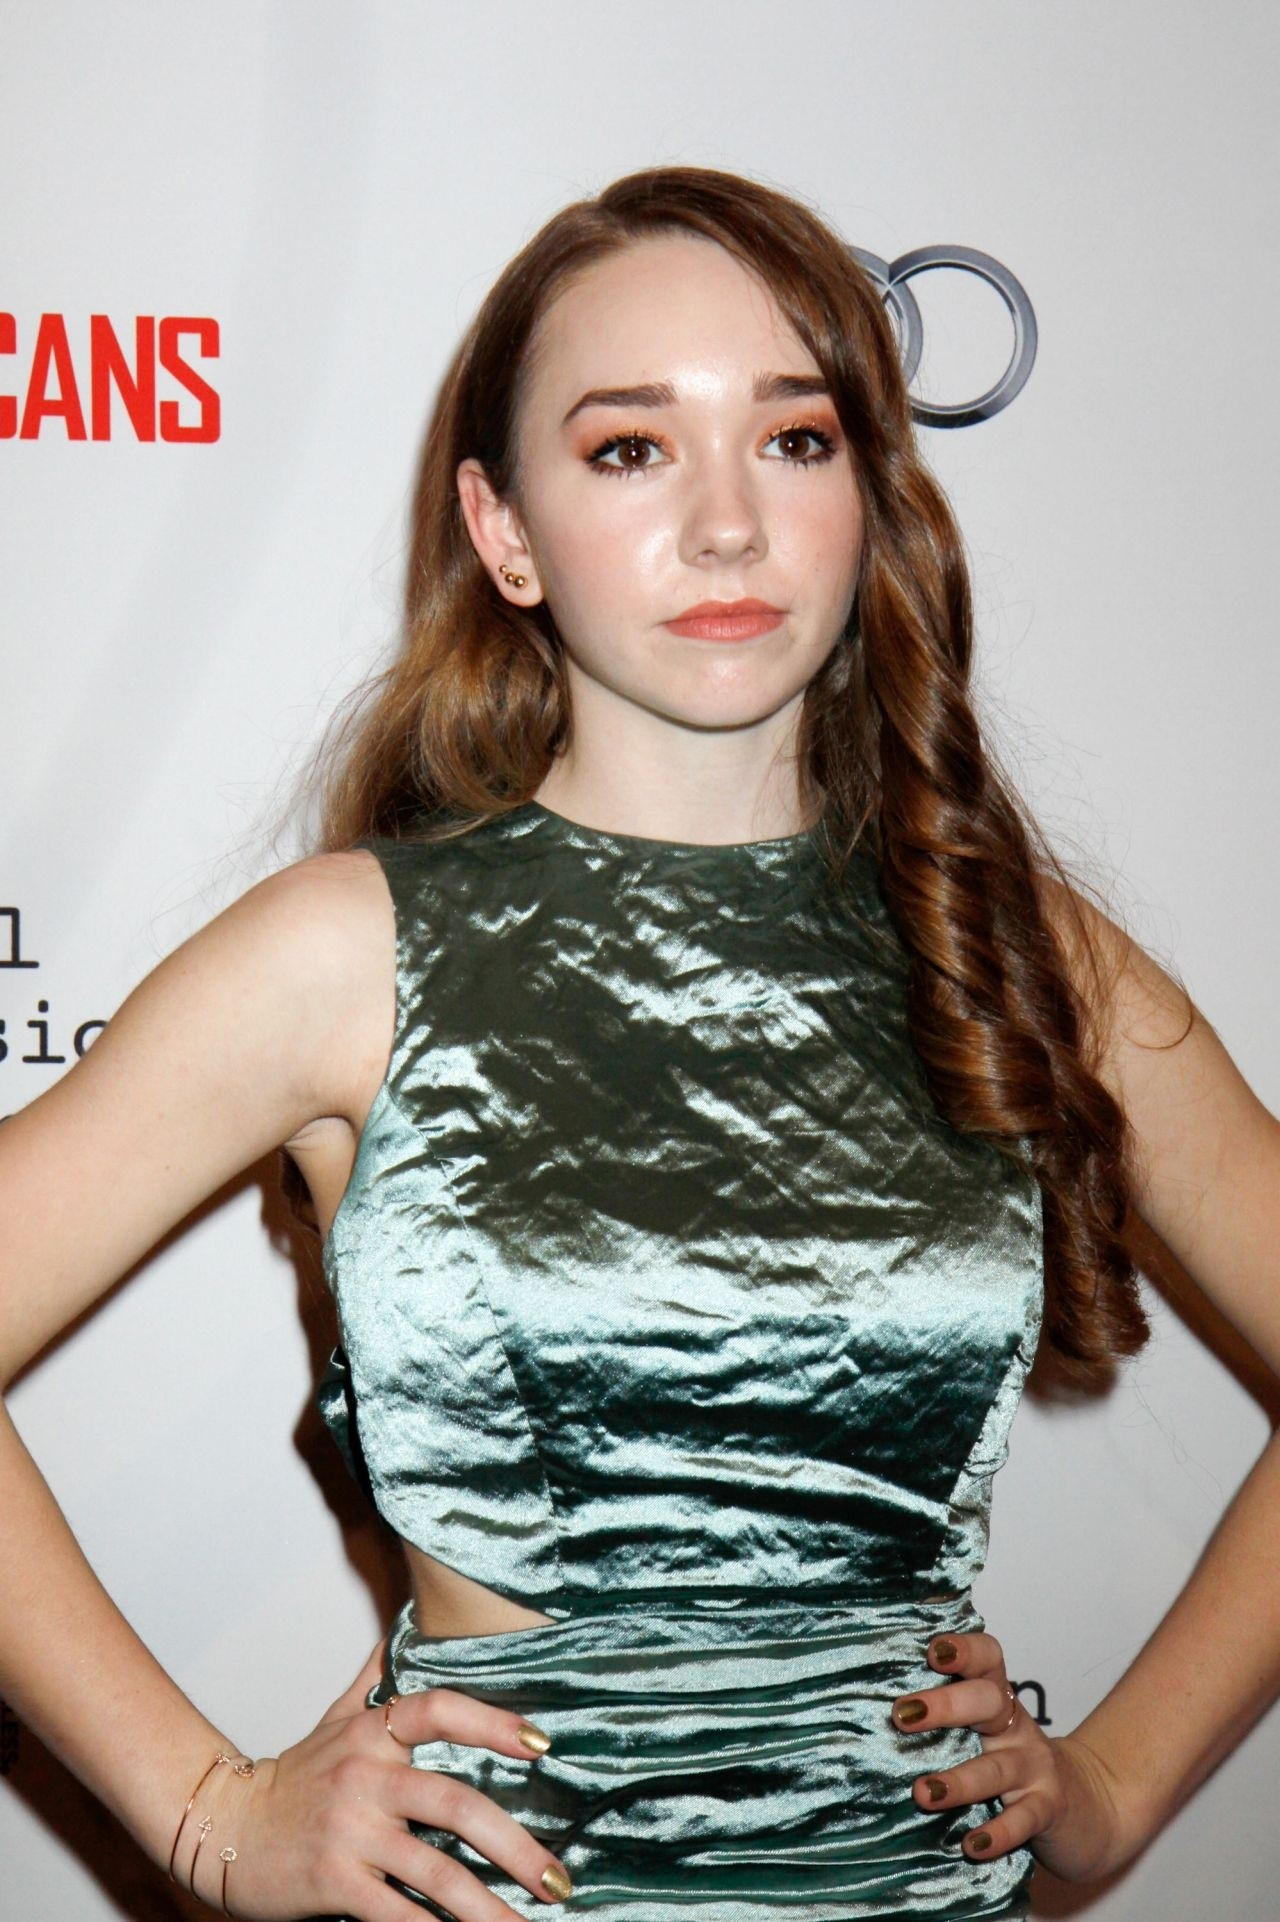face_no_mask: (429, 159, 926, 727)
